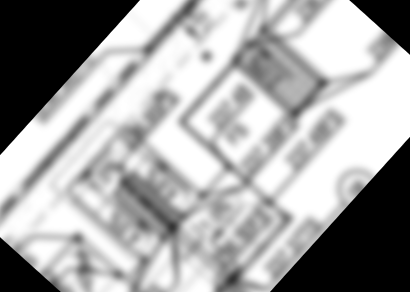door: (232, 180, 286, 232)
